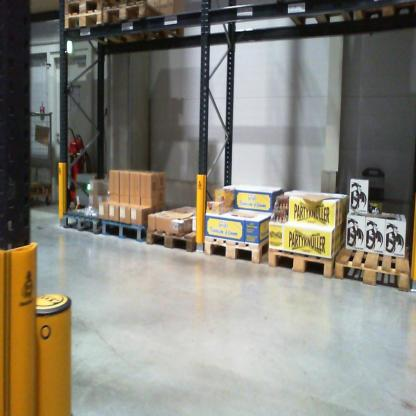pallet: (270, 217, 364, 282), (335, 237, 411, 293), (200, 222, 290, 264), (102, 7, 192, 49), (58, 6, 120, 63), (145, 214, 218, 256), (102, 209, 162, 248), (56, 195, 98, 249), (59, 4, 107, 15)
